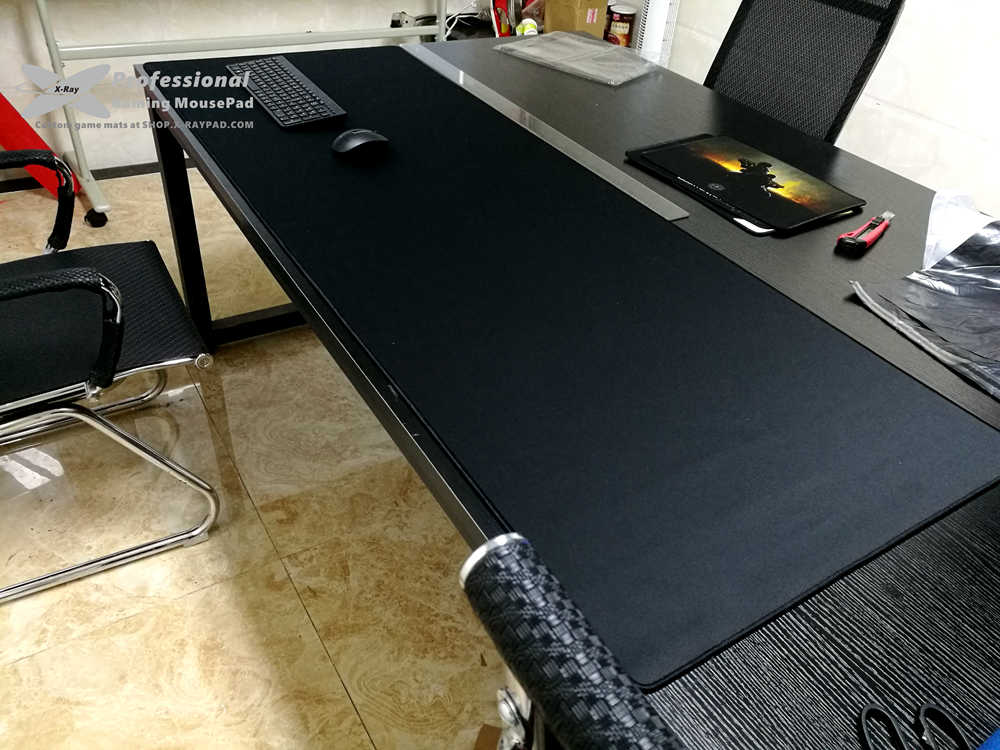mouse: (319, 118, 404, 160)
